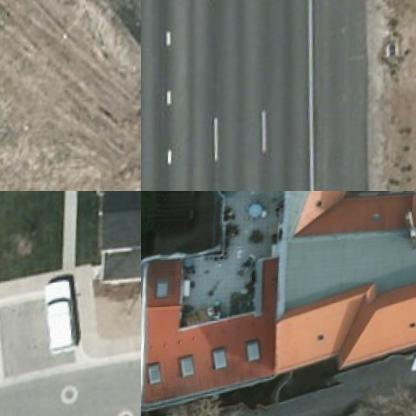car: (40, 269, 88, 355)
